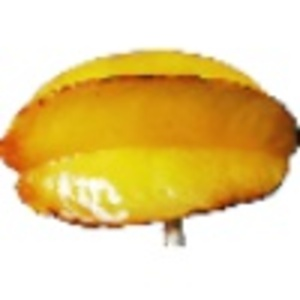carambola: (1, 47, 300, 248)
